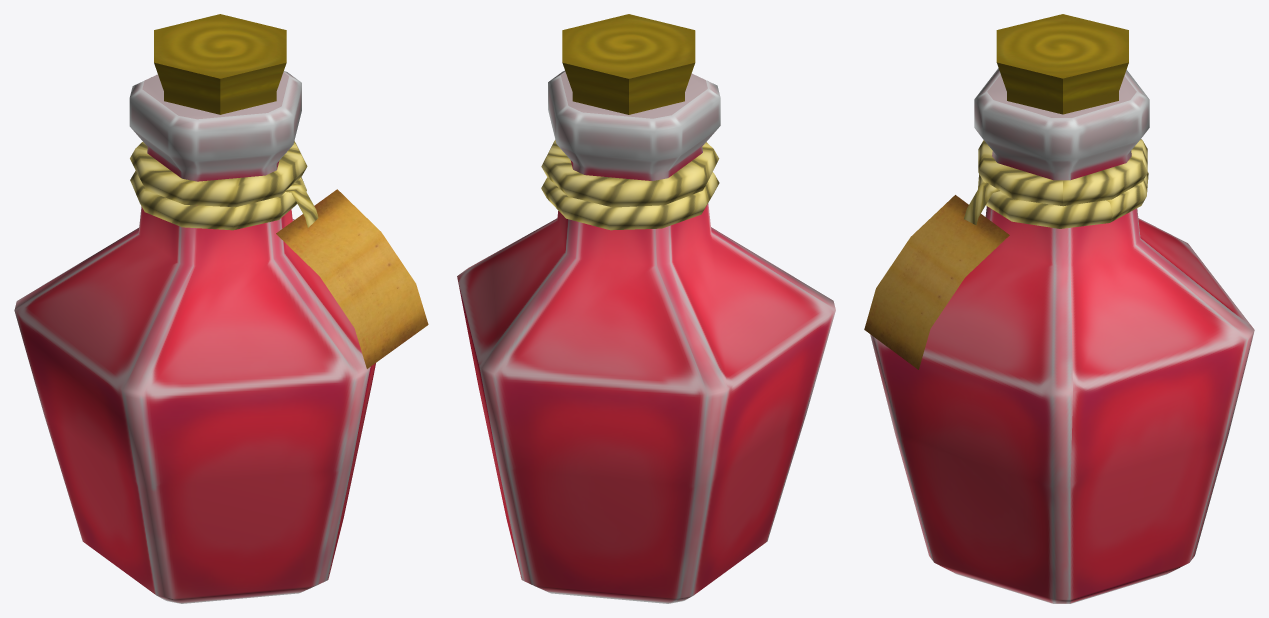
The model's file is bottle_019.fbx.
The picture shows the model from 3 angles, left to right: view 1: azimuth 30°, elevation 25°; view 2: azimuth 150°, elevation 25°; view 3: azimuth 270°, elevation 25°; orthographic projection.
Visible parts, largest first — view 1: bottle_019; view 2: bottle_019; view 3: bottle_019.
Boxes of the visible parts, box(x1,y1,x2,y2) form: bottle_019: box(14, 14, 428, 603); bottle_019: box(457, 14, 835, 603); bottle_019: box(864, 14, 1254, 603).
Bounding box in the file's own units: 16.02 × 24.58 × 17.06.
